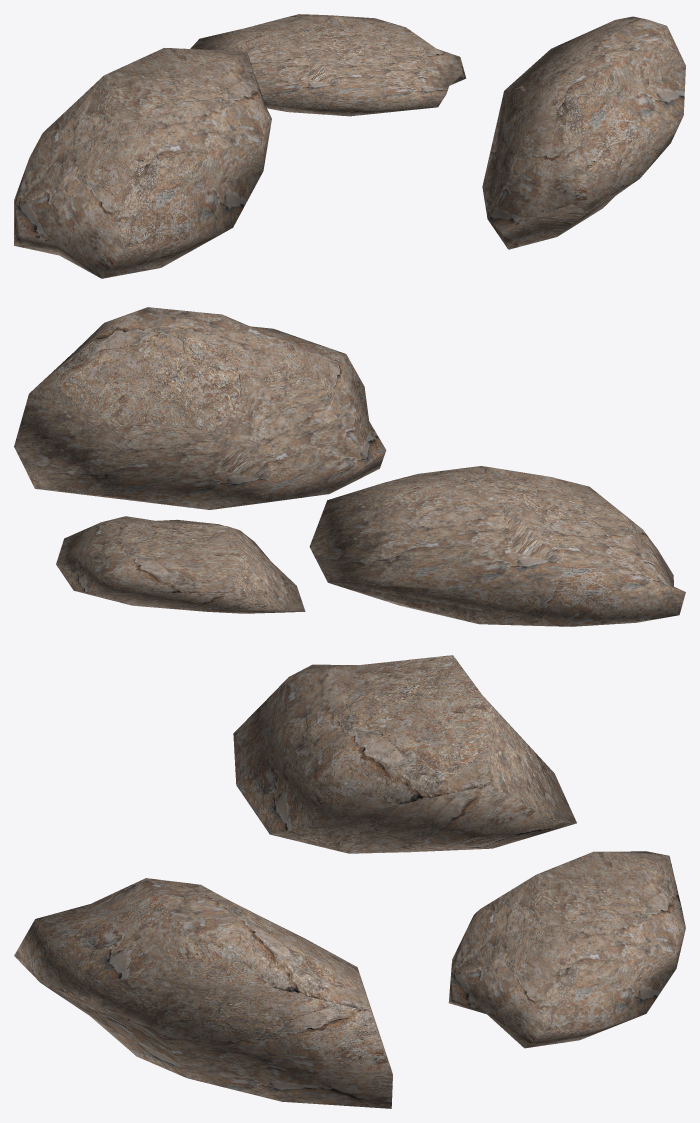
The model's file is stoneGroup_01.dae.
The picture shows the model from 3 angles, top to bottom: view 1: azimuth 30°, elevation 25°; view 2: azimuth 150°, elevation 25°; view 3: azimuth 270°, elevation 25°; orthographic projection. The views are drawn at different scales.
Visible parts, largest first — view 1: StoneGroupOne200, StoneGroupOne100; view 2: StoneGroupOne200, StoneGroupOne100; view 3: StoneGroupOne200, StoneGroupOne100.
Boxes of the visible parts, bbox=[...] form: StoneGroupOne200: bbox=[14, 14, 685, 278]; StoneGroupOne100: bbox=[14, 15, 685, 278]; StoneGroupOne200: bbox=[14, 307, 685, 626]; StoneGroupOne100: bbox=[14, 307, 677, 626]; StoneGroupOne200: bbox=[14, 656, 685, 1108]; StoneGroupOne100: bbox=[36, 655, 681, 1077].
Bounding box in the file's own units: 2.51 × 1.81 × 0.5997.
